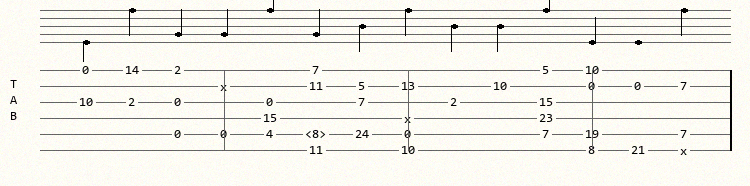0: (82, 64, 93, 76), (174, 96, 185, 108), (174, 128, 185, 140), (220, 128, 231, 140), (266, 96, 277, 108), (404, 128, 415, 140), (588, 80, 599, 92), (634, 80, 645, 92)
10: (79, 96, 97, 108), (401, 144, 419, 156), (493, 80, 511, 92), (585, 64, 603, 76)
11: (309, 144, 327, 156), (309, 80, 327, 92)
13: (401, 80, 419, 92)
14: (125, 64, 143, 76)
15: (263, 112, 281, 124), (539, 96, 557, 108)
19: (585, 128, 603, 140)
2: (128, 96, 139, 108), (174, 64, 185, 76), (450, 96, 461, 108)
21: (631, 144, 649, 156)
23: (539, 112, 557, 124)
24: (355, 128, 373, 140)
4: (266, 128, 277, 140)
5: (358, 80, 369, 92), (542, 64, 553, 76)
7: (312, 64, 323, 76), (358, 96, 369, 108), (542, 128, 553, 140), (680, 128, 691, 140), (680, 80, 691, 92)
8: (588, 144, 599, 156)
harmonic: (305, 128, 330, 140)
x: (220, 81, 231, 91), (404, 113, 415, 123), (680, 145, 691, 155)
